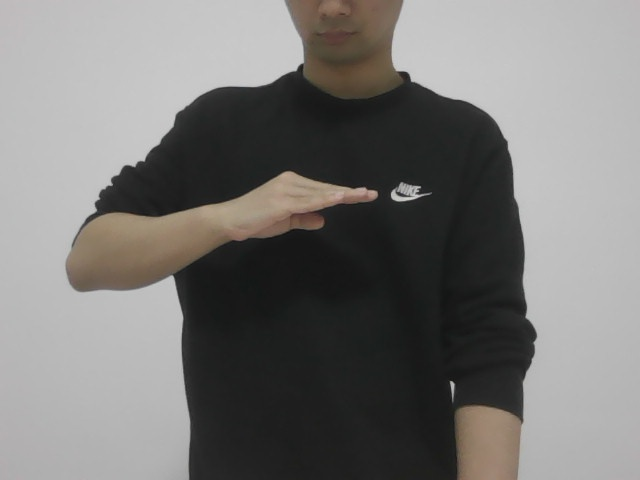late/night: (216, 172, 381, 242)
